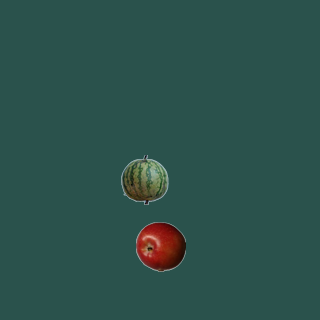Apple Braeburn: (135, 221, 185, 271)
Watermelon: (119, 154, 169, 204)
